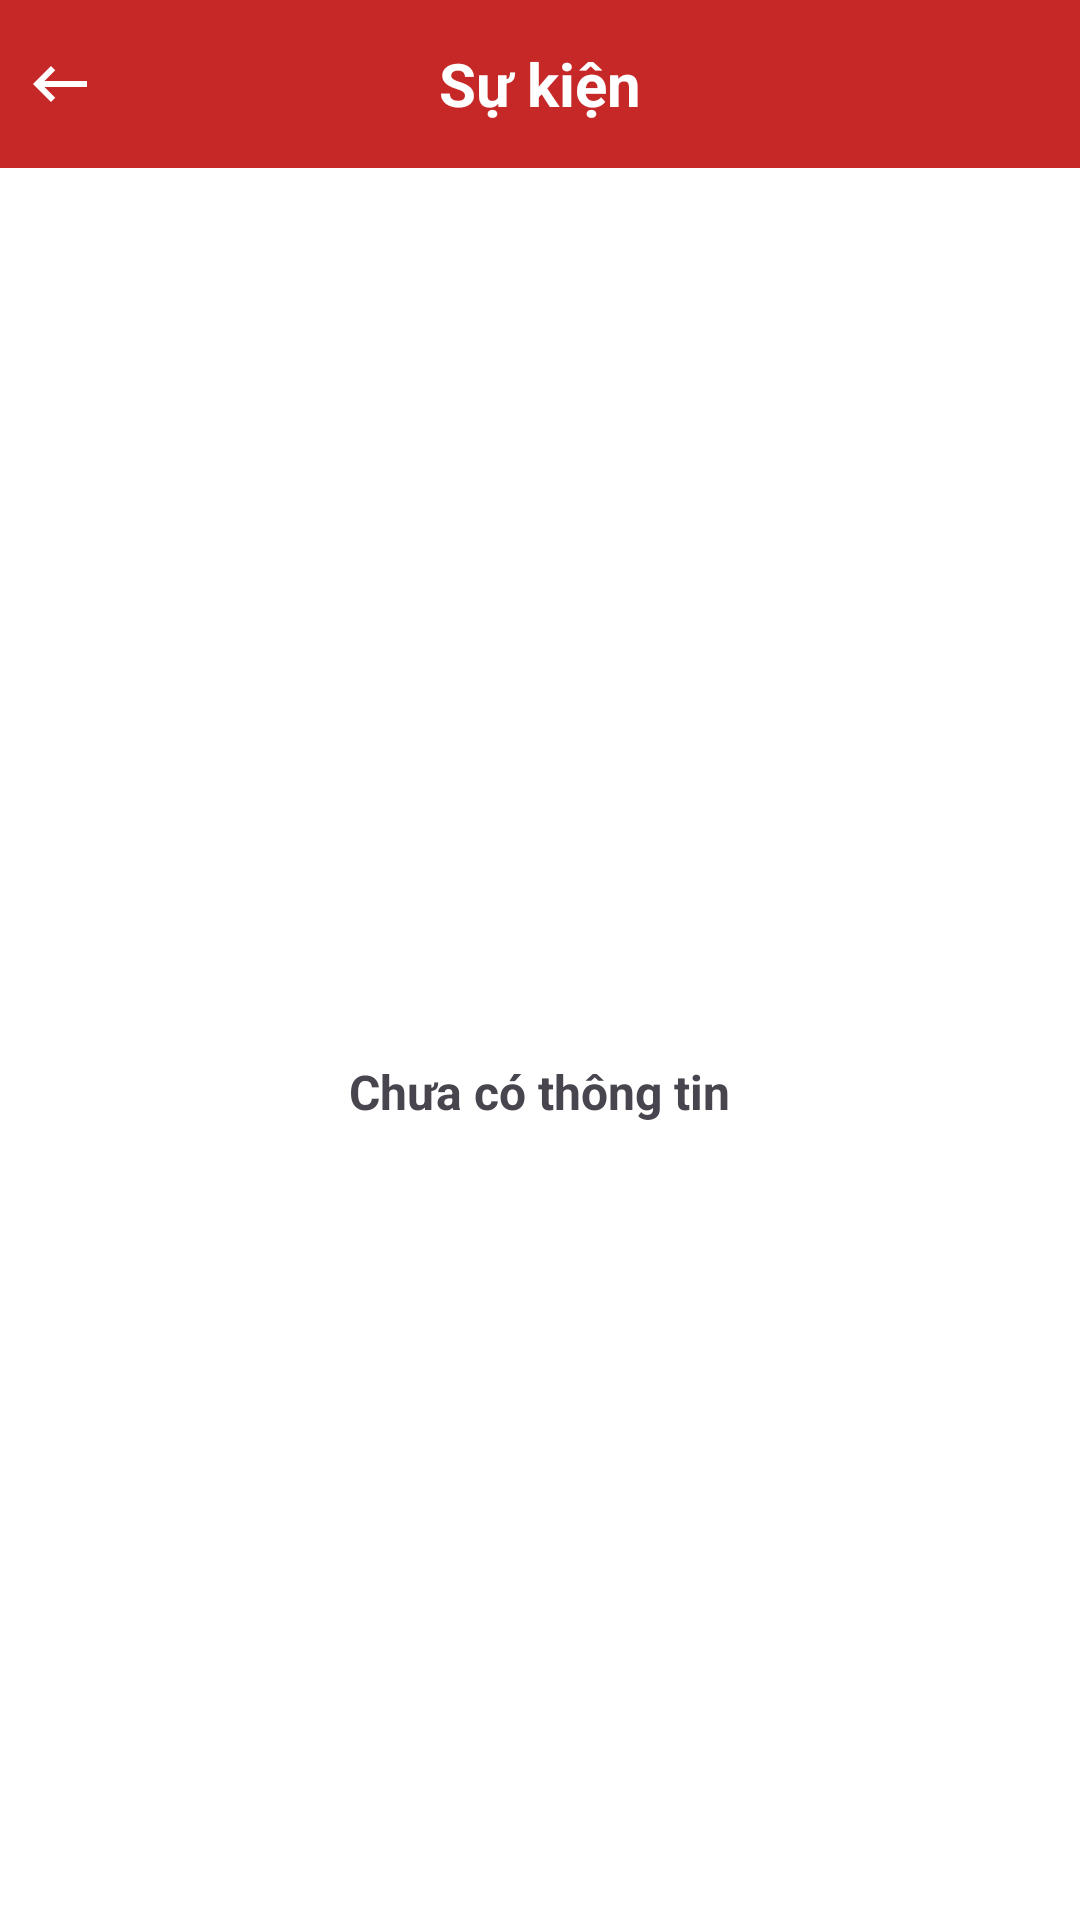

Icons on this 1080×1920 Android screen, each with its box as (left=x1, top=y1, right=x2, bottom=y2):
keyboard backspace: (left=33, top=66, right=87, bottom=102)
